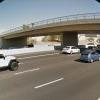Bridge: (2, 15, 97, 40)
